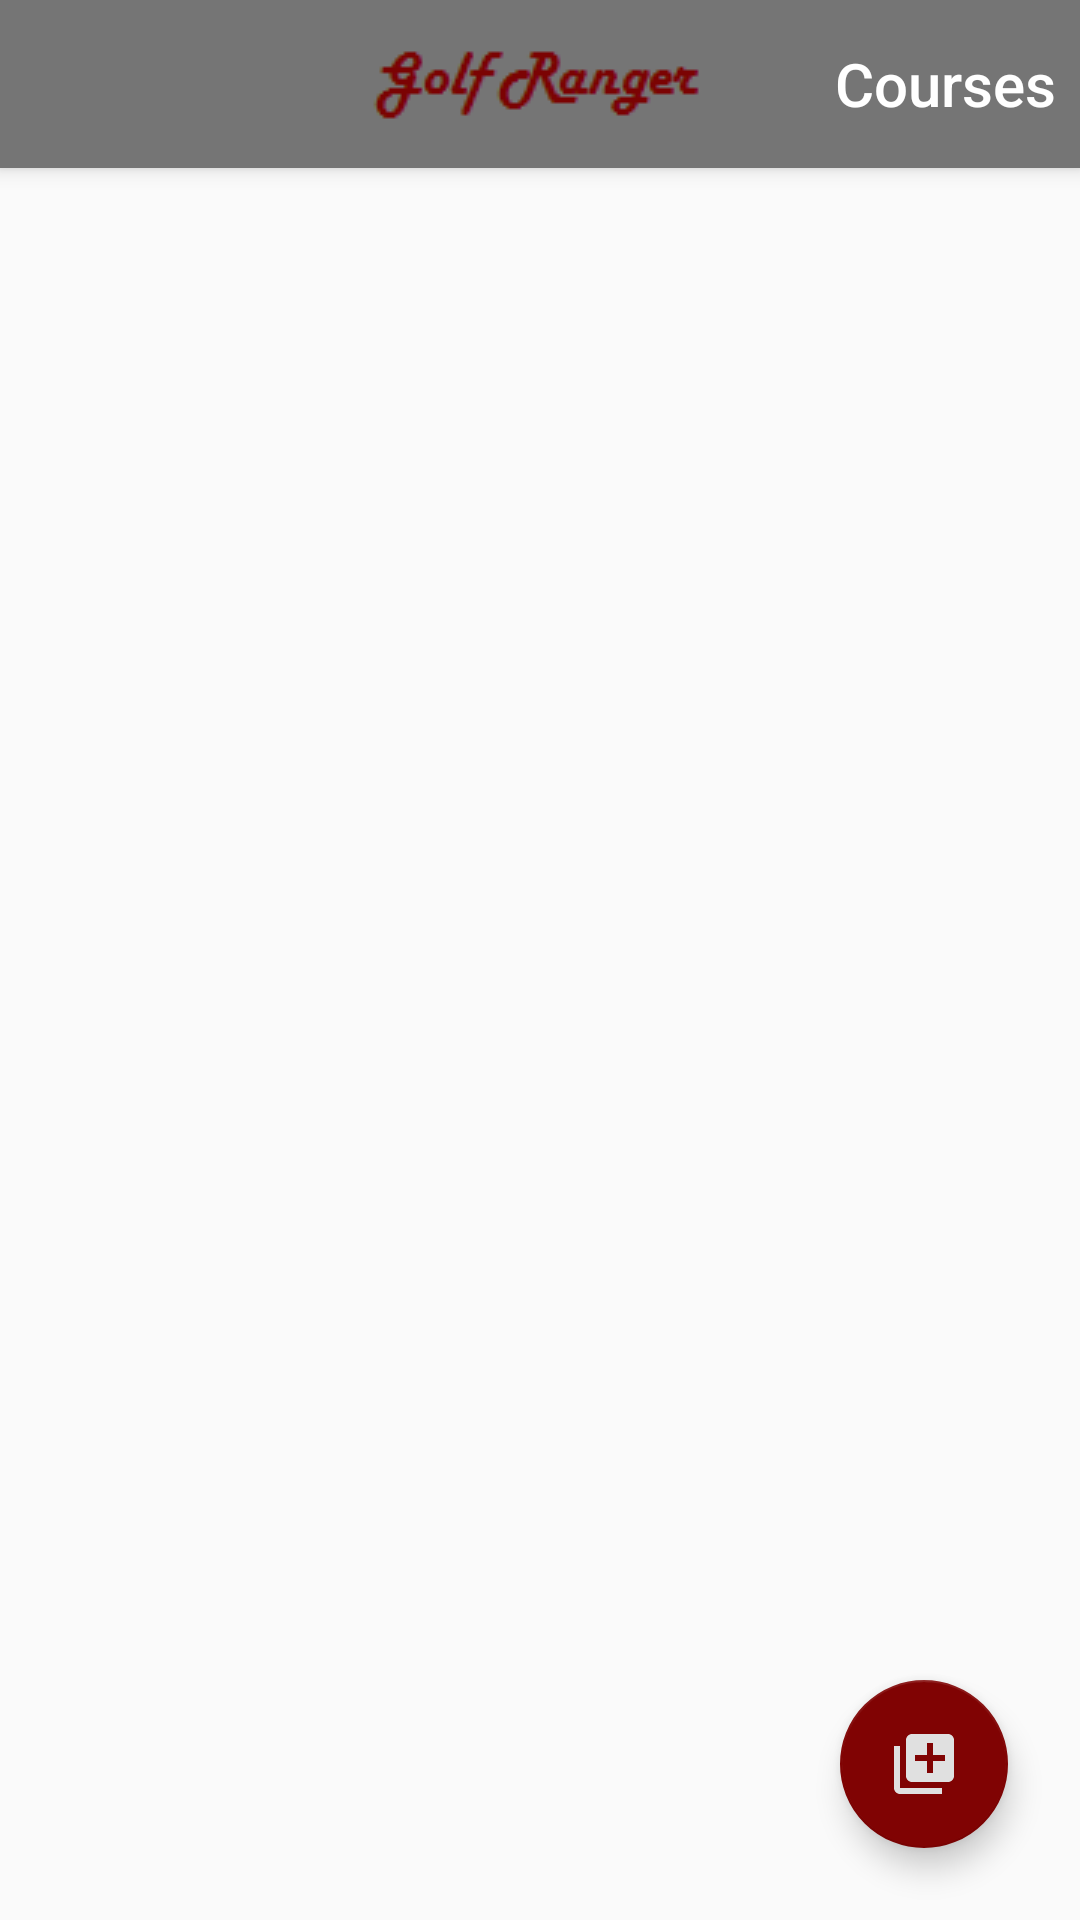

Point at icon controls on the screen. Image size 1080x1920, points as point (x, y).
add course: point (924, 1764)
